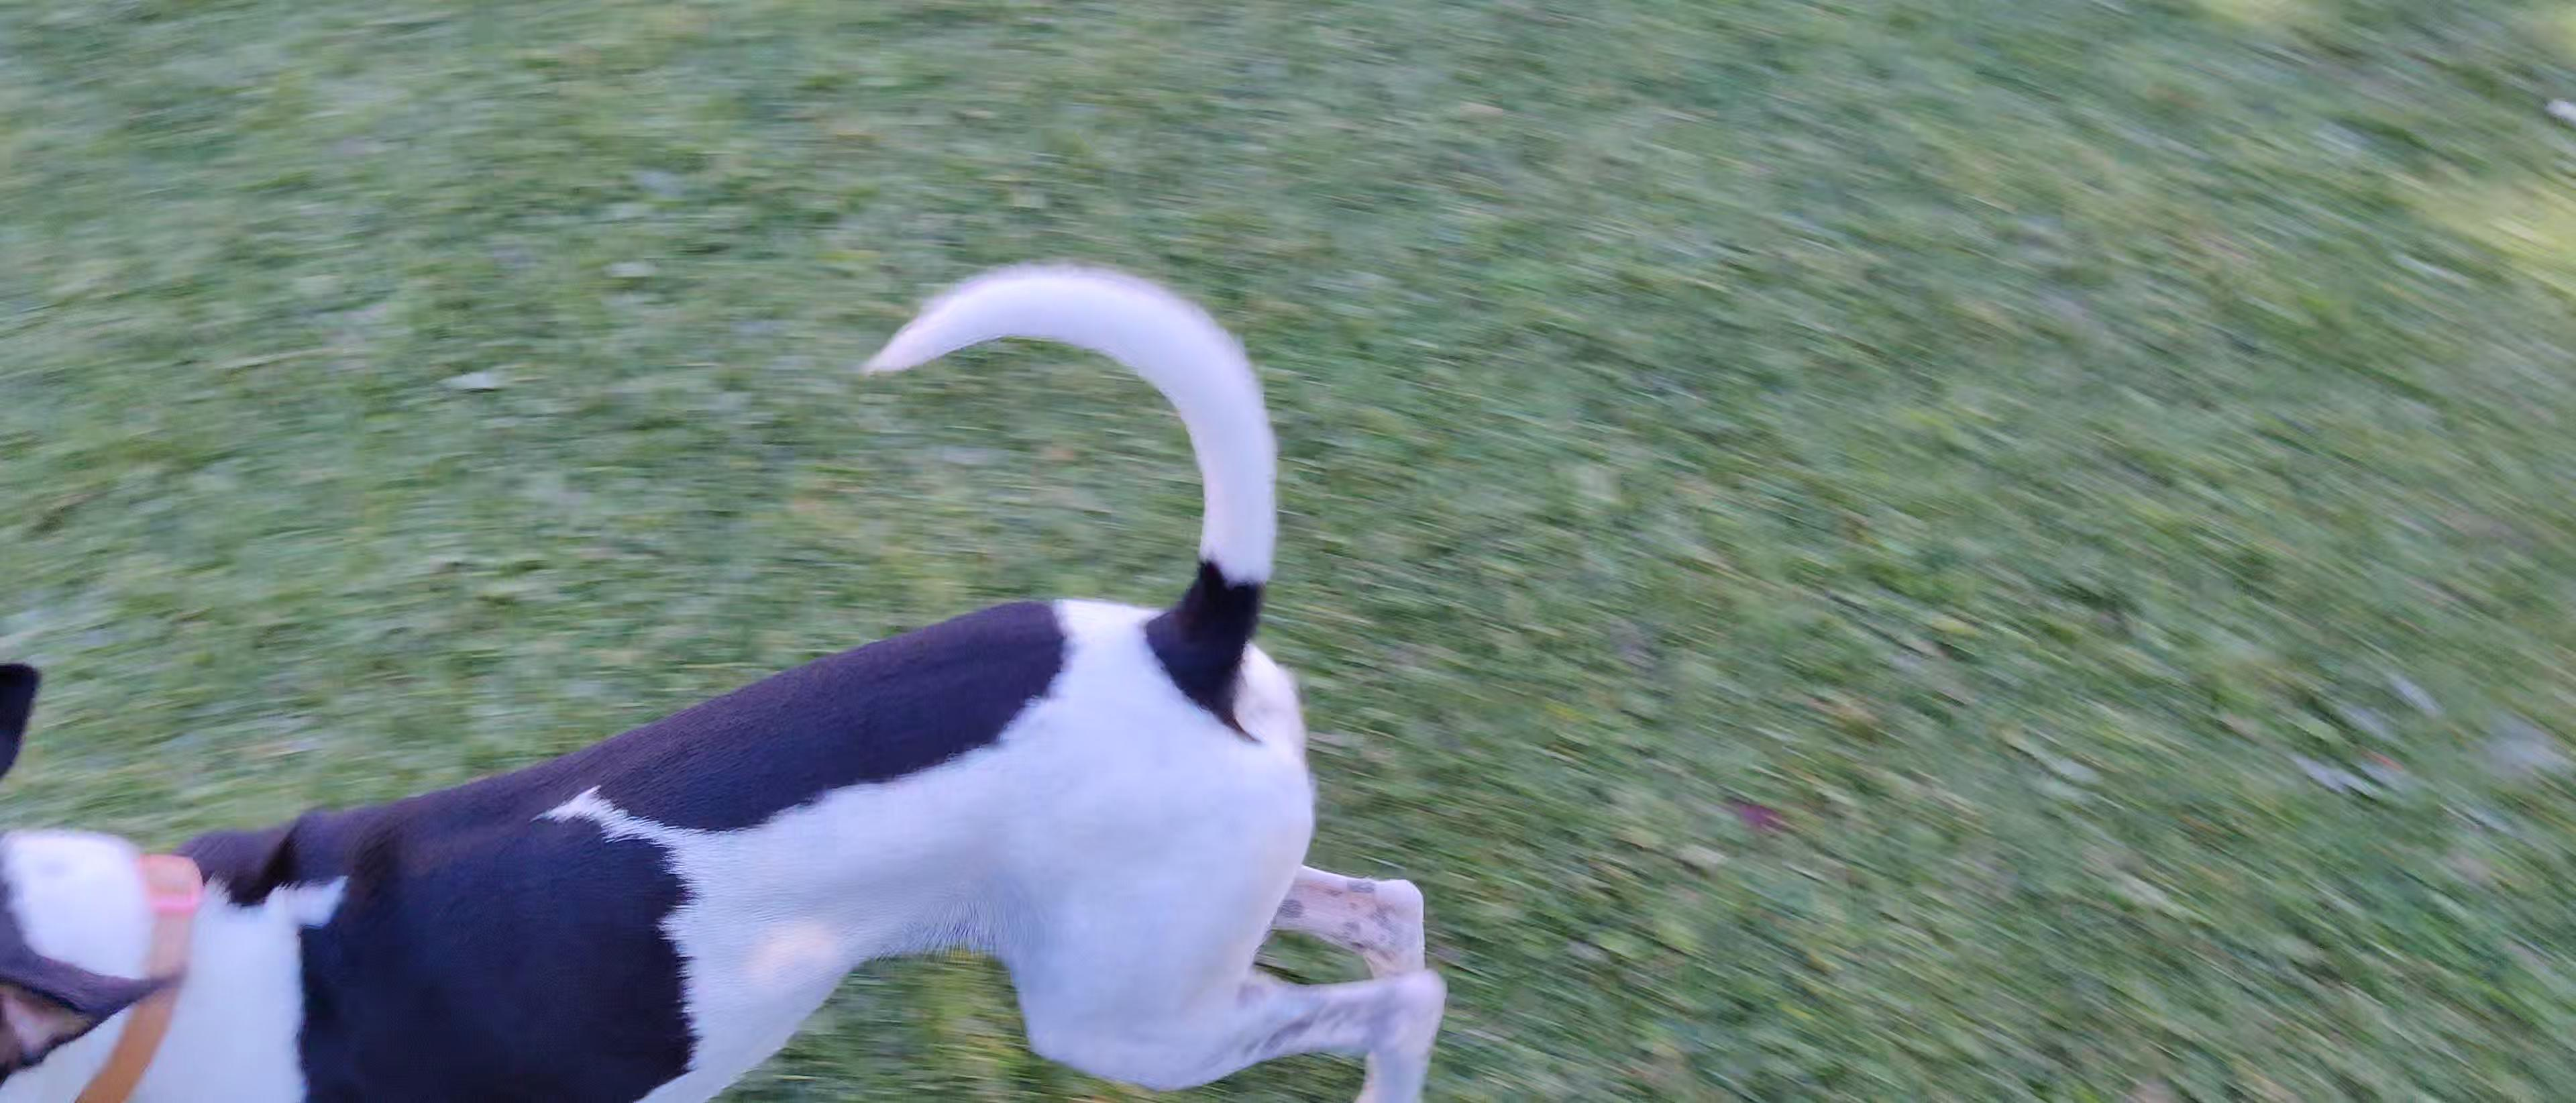Dog: (0, 235, 1483, 1103)
